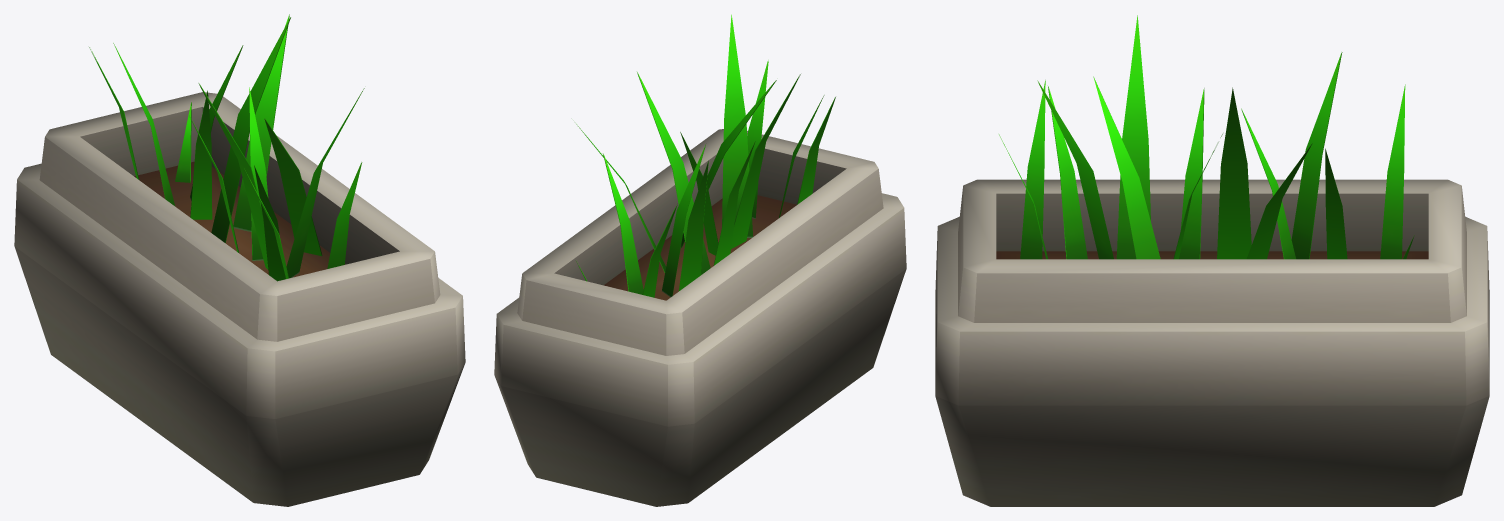
Rendered from Plant_Pot_1A.fbx.
3 renders of one model, left to right at view 1: azimuth 30°, elevation 25°; view 2: azimuth 150°, elevation 25°; view 3: azimuth 270°, elevation 25°, orthographic. The views are drawn at different scales.
Parts seen in each view (by area): view 1: Plant_Pot_1A; view 2: Plant_Pot_1A; view 3: Plant_Pot_1A.
Part boxes in pixels (x1,y1,x2,y2): Plant_Pot_1A: [14, 14, 465, 506]; Plant_Pot_1A: [494, 14, 906, 506]; Plant_Pot_1A: [935, 15, 1489, 506].
Size of the model in its own units: 30.48 by 49.13 by 60.96.
